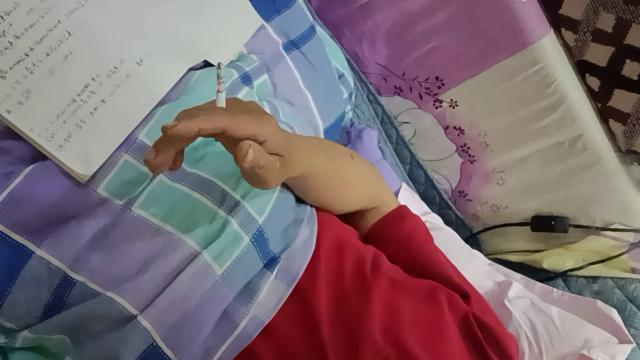Cigarette: (214, 62, 226, 142)
